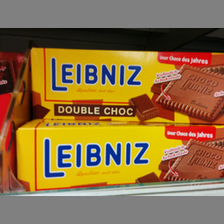chocolate: (13, 122, 224, 194), (28, 47, 223, 124)
